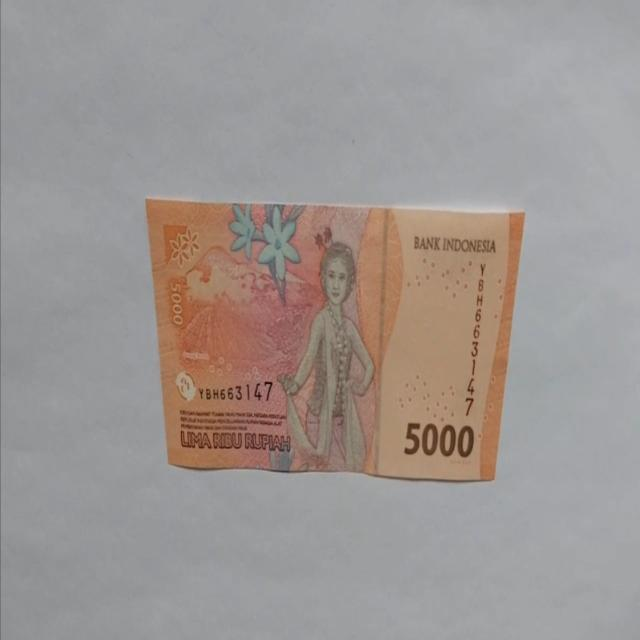lima ribu rupiah: (144, 196, 526, 481), (276, 240, 376, 472)
